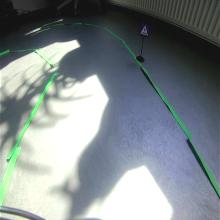crosswalk: (139, 22, 150, 38)
